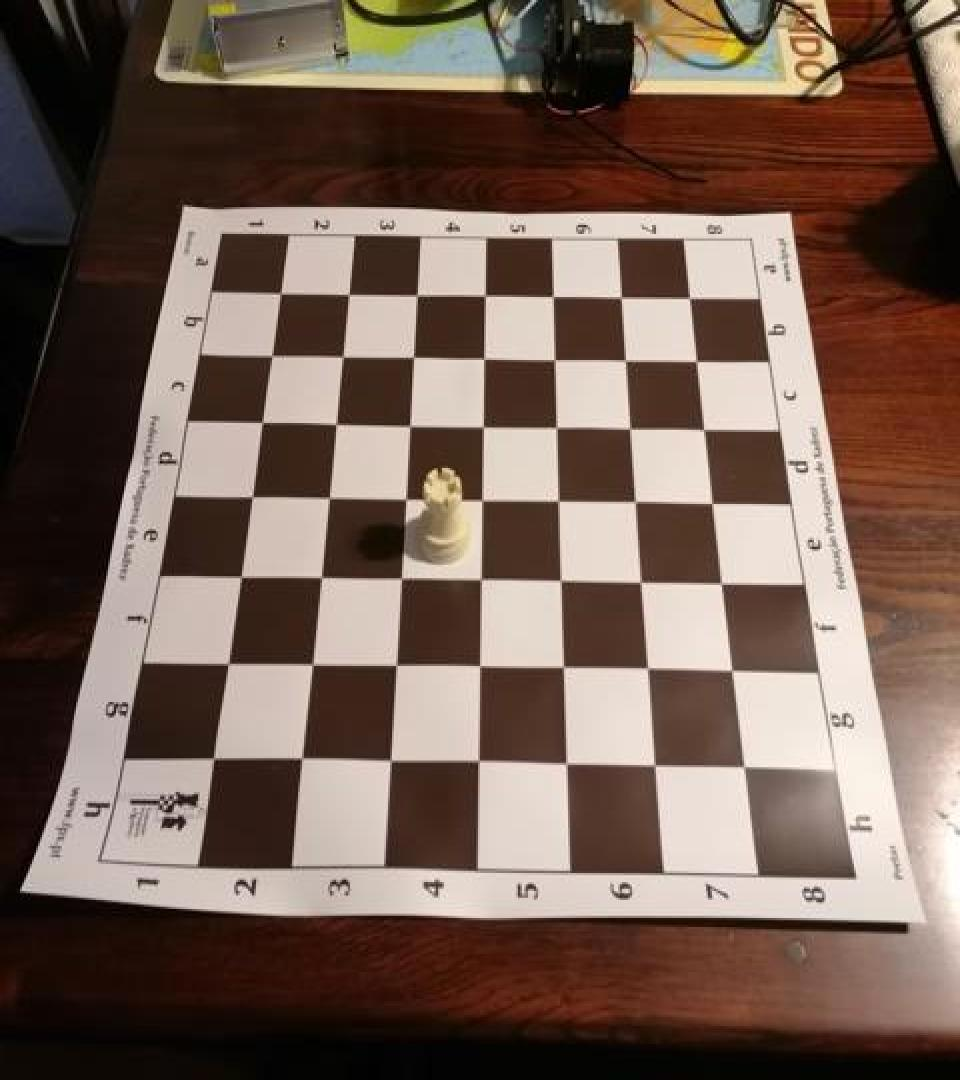xcorner: (463, 644, 495, 681), (461, 742, 493, 779), (371, 741, 403, 778), (674, 276, 706, 312), (606, 276, 638, 312), (537, 274, 569, 310), (469, 274, 501, 310), (401, 274, 433, 310), (333, 272, 365, 308), (265, 272, 297, 308), (682, 338, 714, 374), (610, 338, 642, 374), (539, 336, 571, 372), (468, 335, 500, 371), (397, 335, 429, 371), (326, 334, 358, 370), (255, 334, 287, 370), (690, 405, 722, 441), (615, 405, 647, 441), (541, 404, 573, 440), (467, 403, 499, 439), (393, 402, 425, 438), (319, 402, 351, 438), (245, 400, 277, 436), (699, 479, 731, 515), (621, 478, 653, 514), (543, 477, 575, 513), (465, 476, 497, 512), (388, 475, 420, 511), (311, 475, 343, 511), (233, 474, 265, 510), (709, 559, 741, 595), (627, 558, 659, 594), (545, 557, 577, 593), (464, 557, 496, 593), (383, 556, 415, 592), (302, 554, 334, 590), (221, 554, 253, 590), (720, 648, 752, 684), (634, 647, 666, 683), (548, 646, 580, 682), (377, 644, 409, 680), (292, 642, 324, 678), (207, 641, 239, 677), (731, 747, 763, 783), (641, 745, 673, 781), (551, 744, 583, 780), (282, 739, 314, 775), (192, 738, 224, 774)
